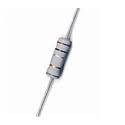resistor: (41, 32, 80, 93)
